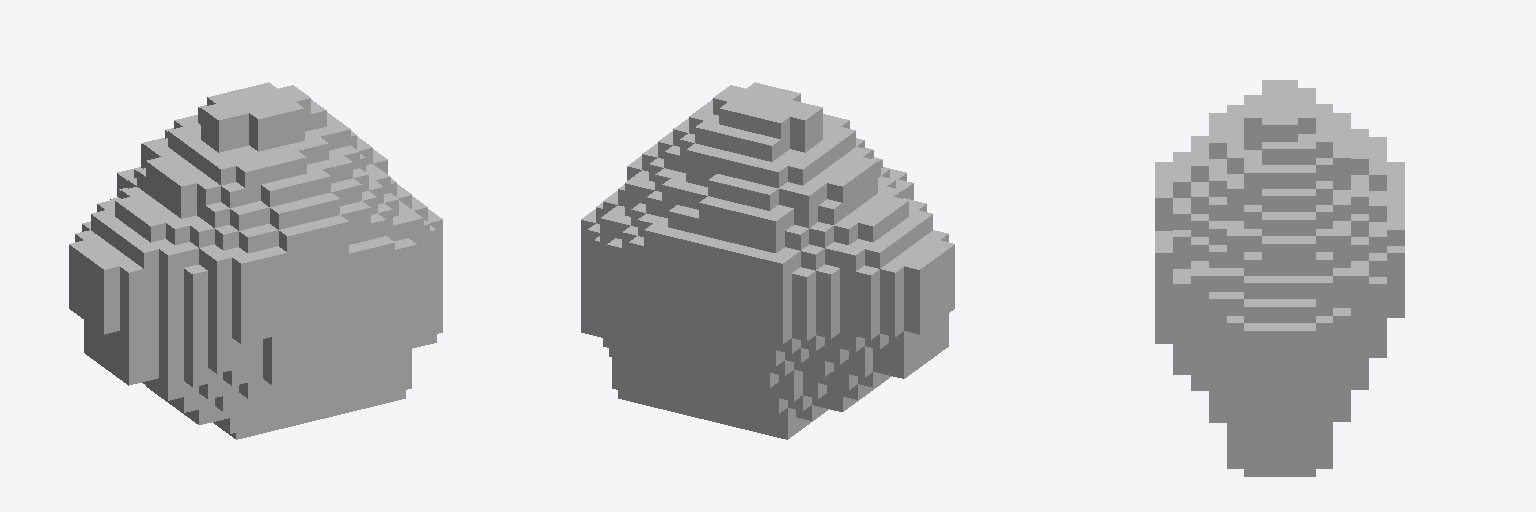
Rendered from GroundEnemyShelter.obj.
3 views of the same model, side by side, from view 1: azimuth 30°, elevation 25°; view 2: azimuth 150°, elevation 25°; view 3: azimuth 270°, elevation 25° (orthographic).
Size of the model in its own units: 22 by 19 by 14.